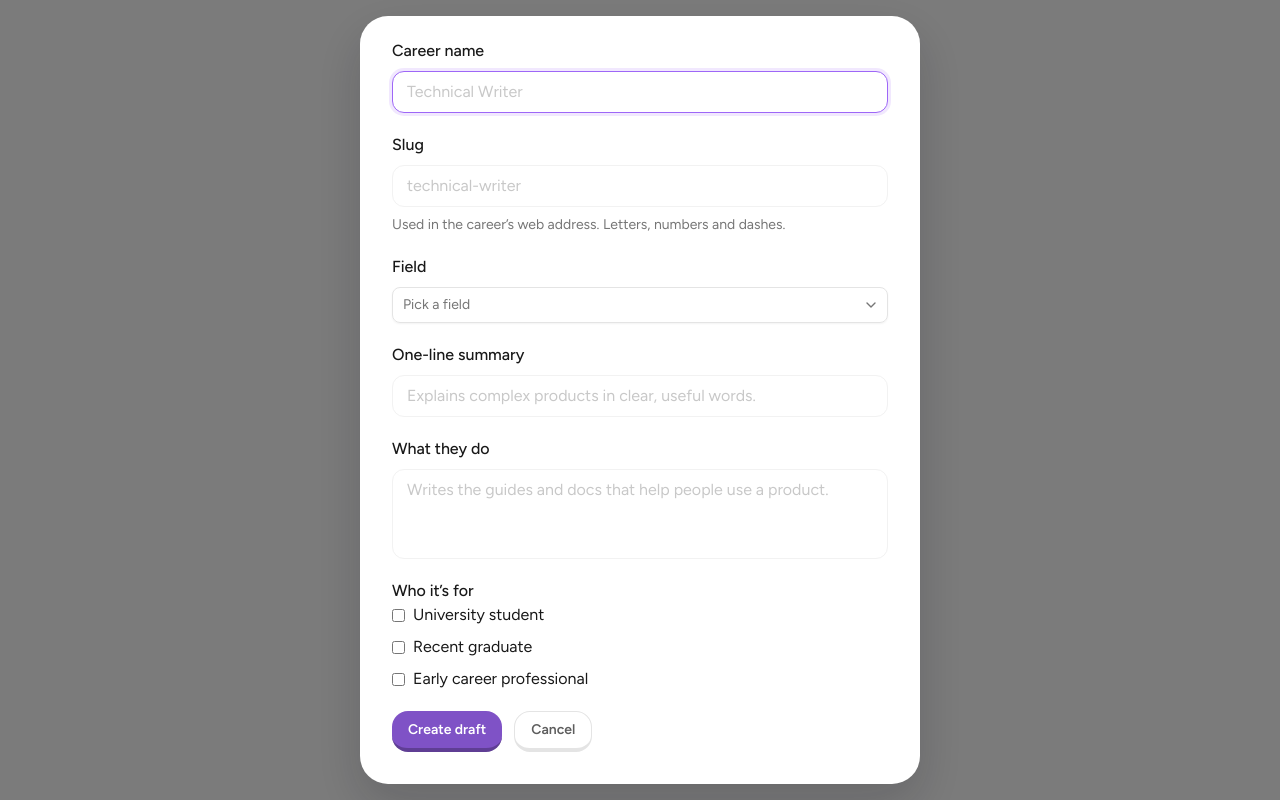
Scenario: AddCareerDialog › shows the missing-description error on the field itself
(page scrolled)
Click the button "Create draft": (447, 732) x1=392 y1=711 x2=502 y2=752
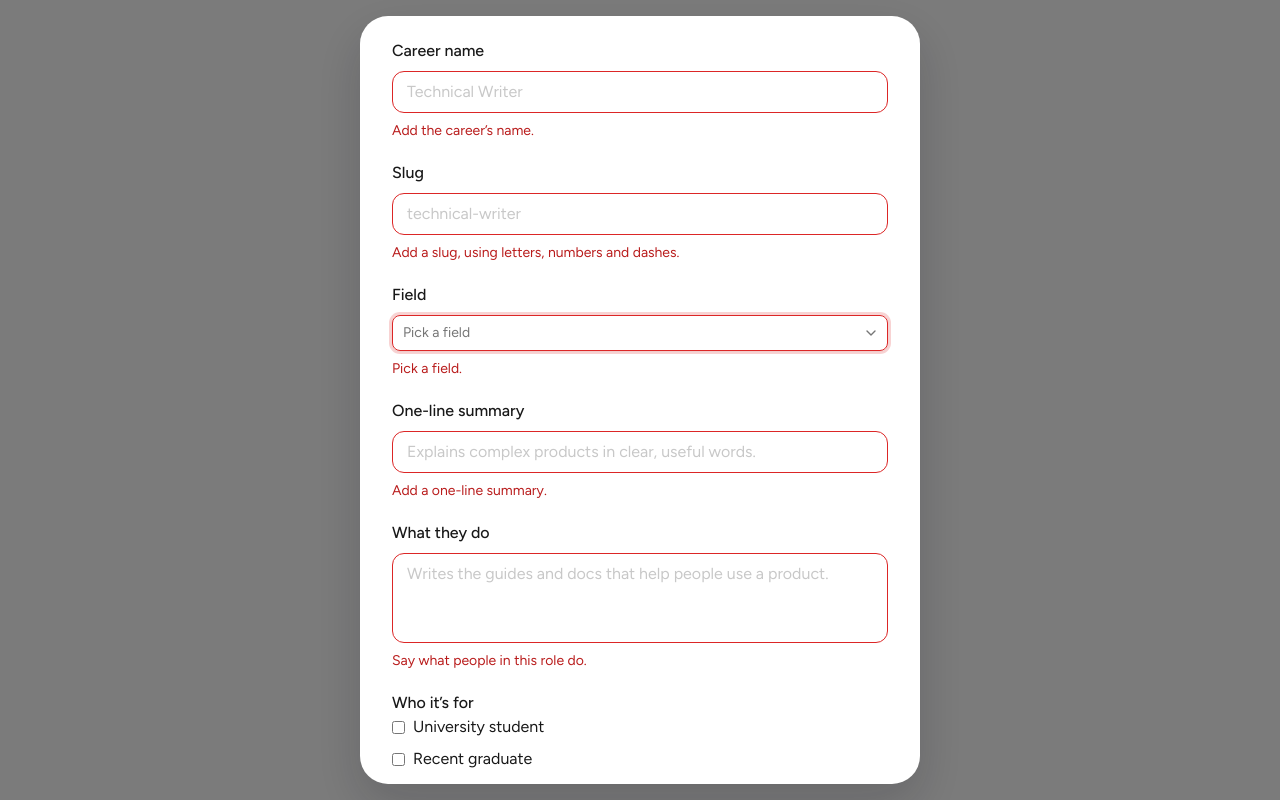
Expected: the label labelled "What they do Say what people in this role do." is shown, x1=392 y1=521 x2=888 y2=671
